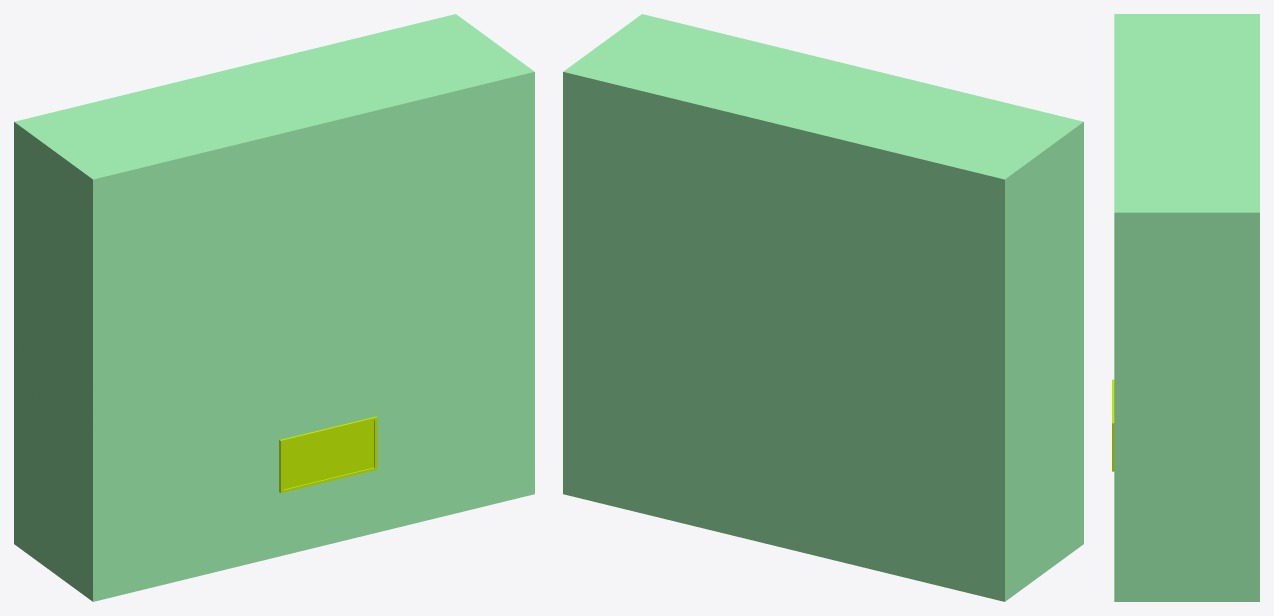
File: HallWallVariation1.fbx
3 renders of one model, left to right at view 1: azimuth 30°, elevation 25°; view 2: azimuth 150°, elevation 25°; view 3: azimuth 270°, elevation 25°, orthographic. The views are drawn at different scales.
Parts seen in each view (by area): view 1: Wall, Billboard; view 2: Wall; view 3: Wall, Billboard.
Part boxes in pixels (x1,y1,x2,y2): Wall: (14,14,534,601); Billboard: (279,416,377,492); Wall: (563,14,1083,601); Wall: (1114,14,1259,601); Billboard: (1112,379,1114,471).
Size of the model in its own units: 100 by 91.37 by 31.43.
